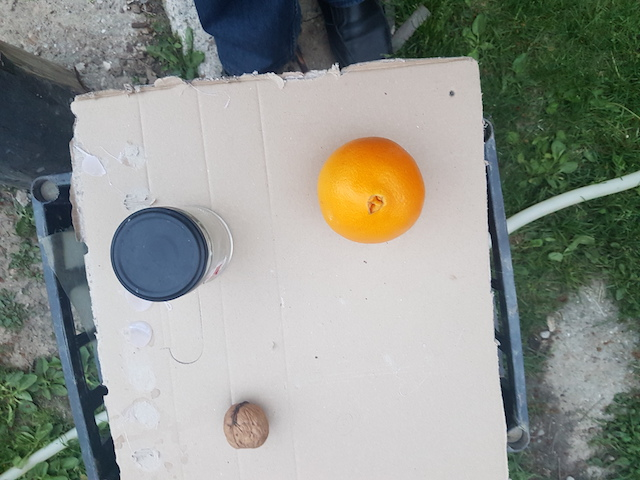nut: (223, 401, 270, 454)
orange: (313, 137, 424, 246)
recipient: (109, 209, 211, 303)
